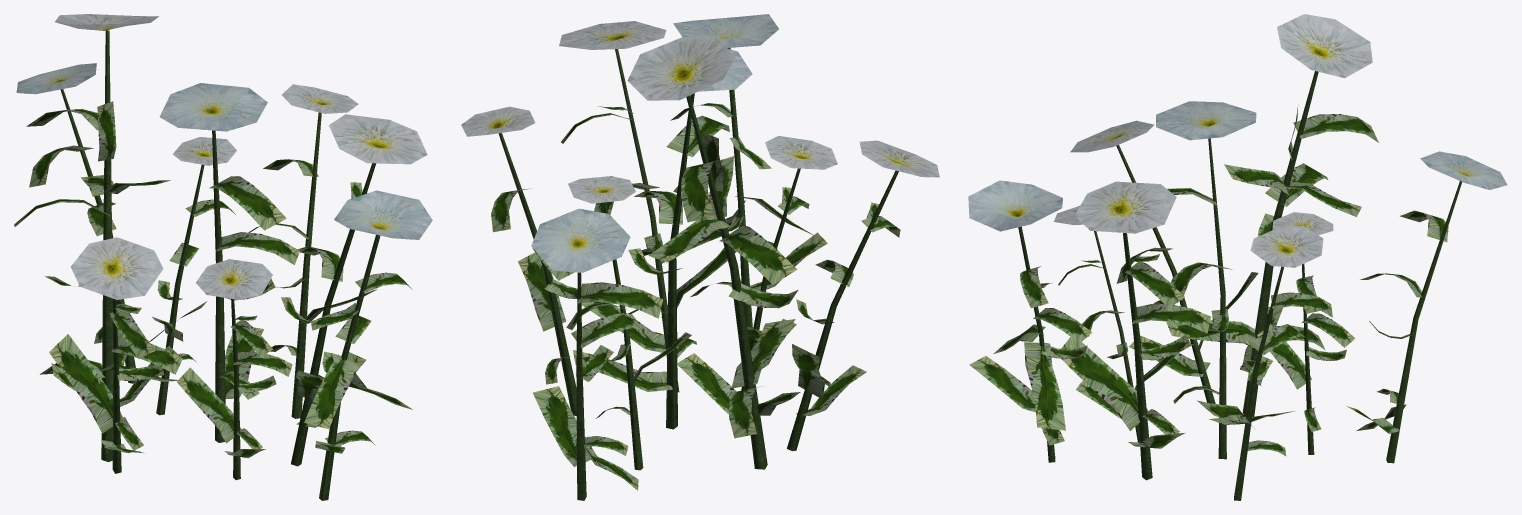
File: White Flowers 01 Variant 1.fbx
The picture shows the model from 3 angles, left to right: view 1: azimuth 30°, elevation 25°; view 2: azimuth 150°, elevation 25°; view 3: azimuth 270°, elevation 25°; orthographic projection. The views are drawn at different scales.
Parts seen in each view (by area): view 1: White_Flowers_01_03_LOD0; view 2: White_Flowers_01_03_LOD0; view 3: White_Flowers_01_03_LOD0.
Part boxes in pixels (<box>): White_Flowers_01_03_LOD0: <box>14,14,432,500</box>; White_Flowers_01_03_LOD0: <box>461,14,939,500</box>; White_Flowers_01_03_LOD0: <box>968,14,1507,500</box>.
Size of what is drawn, in the model's own units: 69.12 by 76.03 by 92.19.
Materials: 1 (1 with a texture image).
